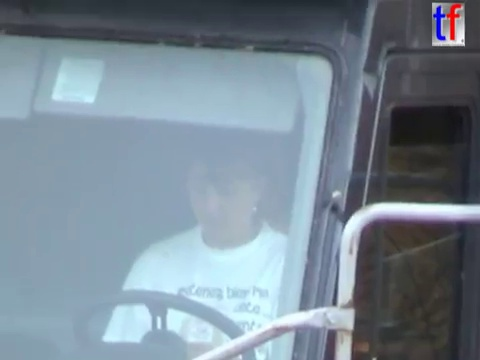truck: (1, 1, 480, 360)
worker: (95, 114, 332, 360)
